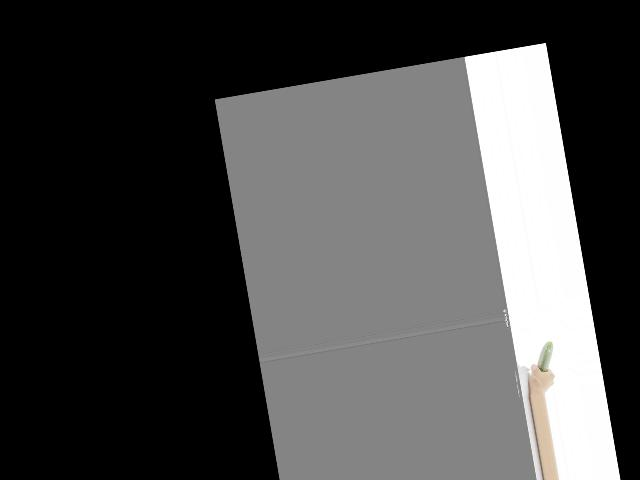cucumber: (533, 341, 557, 373)
